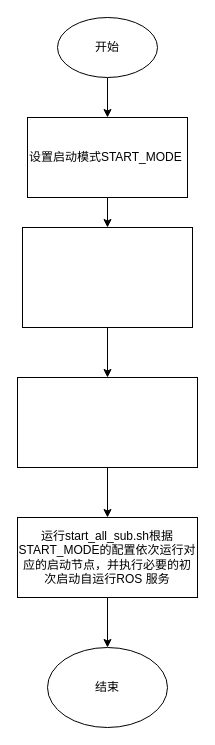
This 215x745 diagram has some shape labels left out. Here are the shapes that lost their labels. From the top down, the centre of each, then its label:
the point at 107,277: 在当前终端环境中运行 source_workspace.sh来选择各节点的启动位置（已安装程序还是工作空间中编译好的程序）
the point at 107,422: 根据START_MODE 运行对应的次级启动脚本，以运行该模式下必要的节点
